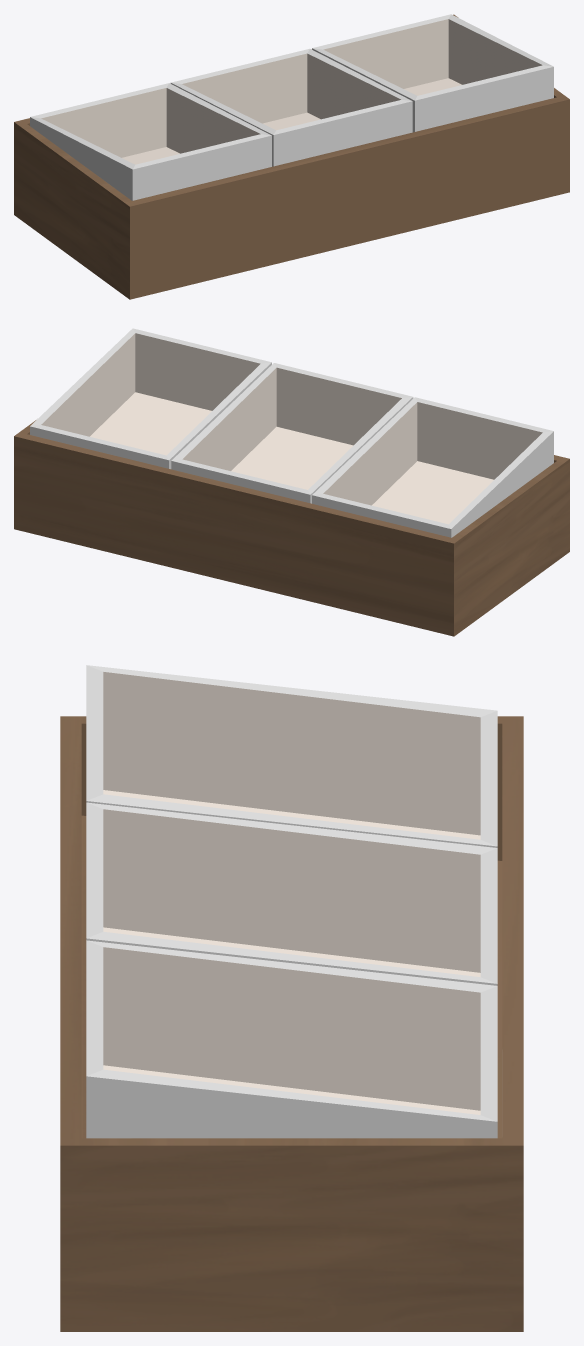
The model's file is Takoyaki_FillingBoxs.obj.
The picture shows the model from 3 angles, top to bottom: view 1: azimuth 30°, elevation 25°; view 2: azimuth 150°, elevation 25°; view 3: azimuth 270°, elevation 25°; orthographic projection. The views are drawn at different scales.
Visible parts, largest first — view 1: Takoyaki_FillingBoxs_MainSG, Takoyaki_FillingBoxs_BSG, Takoyaki_FillingBoxs_ASG, Takoyaki_FillingBoxs_CSG; view 2: Takoyaki_FillingBoxs_MainSG, Takoyaki_FillingBoxs_BSG, Takoyaki_FillingBoxs_ASG, Takoyaki_FillingBoxs_CSG; view 3: Takoyaki_FillingBoxs_MainSG, Takoyaki_FillingBoxs_ASG, Takoyaki_FillingBoxs_CSG, Takoyaki_FillingBoxs_BSG.
Boxes of the visible parts, left/top/right/bottom form: Takoyaki_FillingBoxs_MainSG: left=14, top=14, right=569, bottom=299; Takoyaki_FillingBoxs_BSG: left=30, top=83, right=271, bottom=200; Takoyaki_FillingBoxs_ASG: left=312, top=14, right=553, bottom=132; Takoyaki_FillingBoxs_CSG: left=170, top=48, right=412, bottom=166; Takoyaki_FillingBoxs_MainSG: left=14, top=420, right=569, bottom=636; Takoyaki_FillingBoxs_BSG: left=312, top=397, right=553, bottom=537; Takoyaki_FillingBoxs_ASG: left=30, top=328, right=271, bottom=469; Takoyaki_FillingBoxs_CSG: left=171, top=363, right=413, bottom=503; Takoyaki_FillingBoxs_MainSG: left=60, top=716, right=523, bottom=1331; Takoyaki_FillingBoxs_ASG: left=86, top=940, right=497, bottom=1138; Takoyaki_FillingBoxs_CSG: left=86, top=802, right=497, bottom=985; Takoyaki_FillingBoxs_BSG: left=86, top=665, right=497, bottom=847.
Bounding box in the file's own units: 3.31 × 0.8851 × 1.51.
4 materials, 4 textured.
